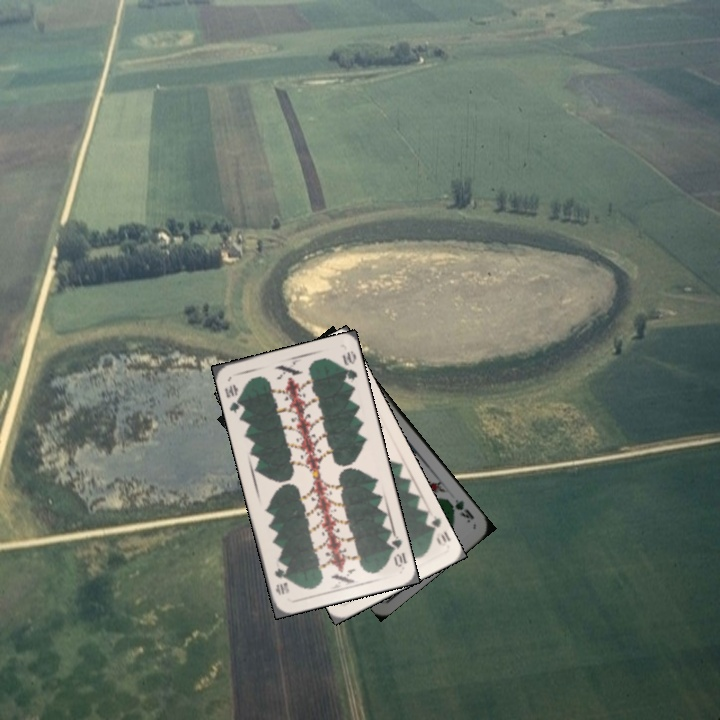G10: (421, 511, 453, 549), (383, 530, 409, 569), (221, 380, 245, 415)
GK: (443, 495, 477, 525)
